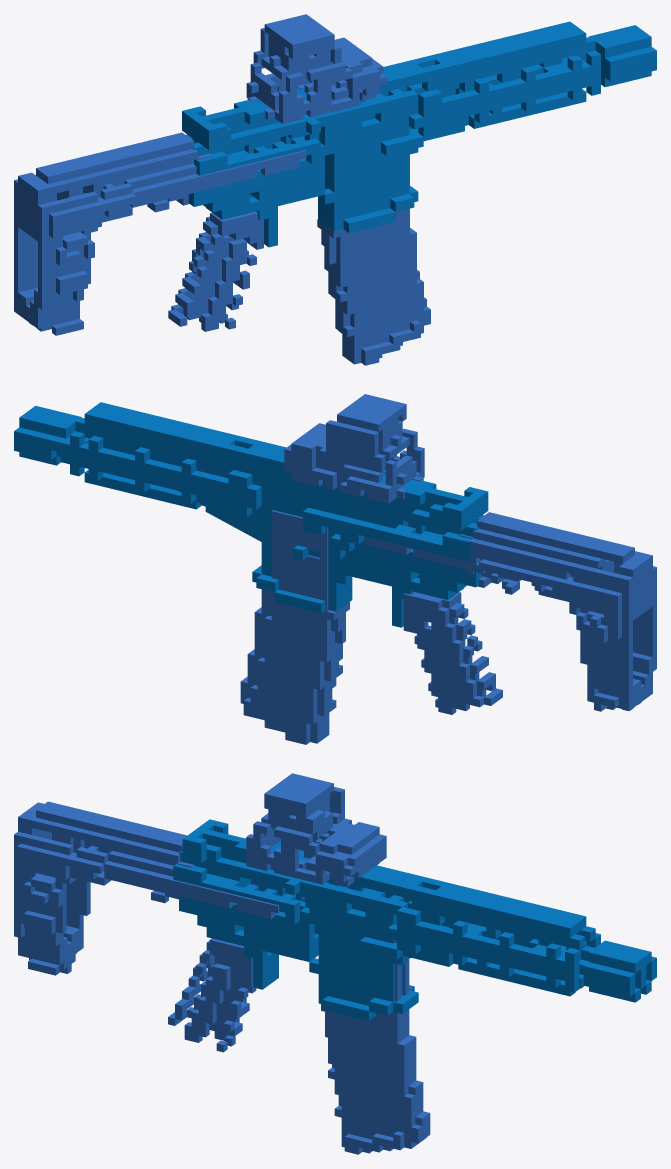
Rendered from gun_riffle.fbx.
3 views of the same model, one above another, from view 1: azimuth 30°, elevation 25°; view 2: azimuth 150°, elevation 25°; view 3: azimuth 330°, elevation 25° (orthographic).
Visible parts, largest first — view 1: Stock-1_017, Plane_054; view 2: Stock-1_017, Plane_054; view 3: Stock-1_017, Plane_054.
Part boxes in pixels (<box>): Stock-1_017: <box>14,14,430,365</box>; Plane_054: <box>182,21,656,247</box>; Stock-1_017: <box>240,394,656,744</box>; Plane_054: <box>14,402,488,627</box>; Stock-1_017: <box>14,773,430,1154</box>; Plane_054: <box>173,819,656,1020</box>.
Bounding box in the file's own units: 52.71 × 28 × 5.36.
